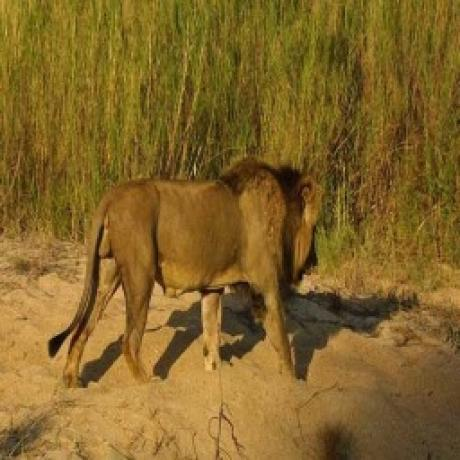Lion: (46, 160, 321, 384)
